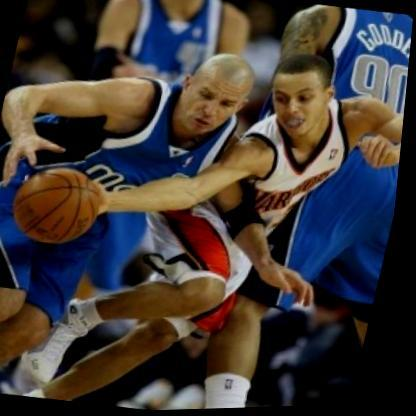basketball: (10, 160, 113, 249)
